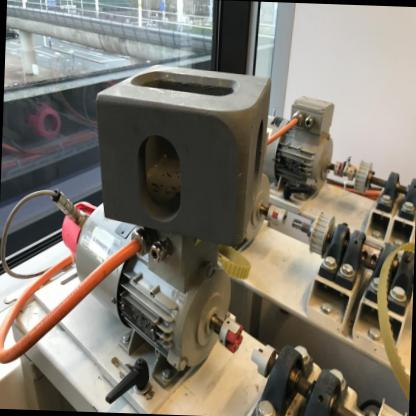CornerCasting: (90, 62, 274, 252)
